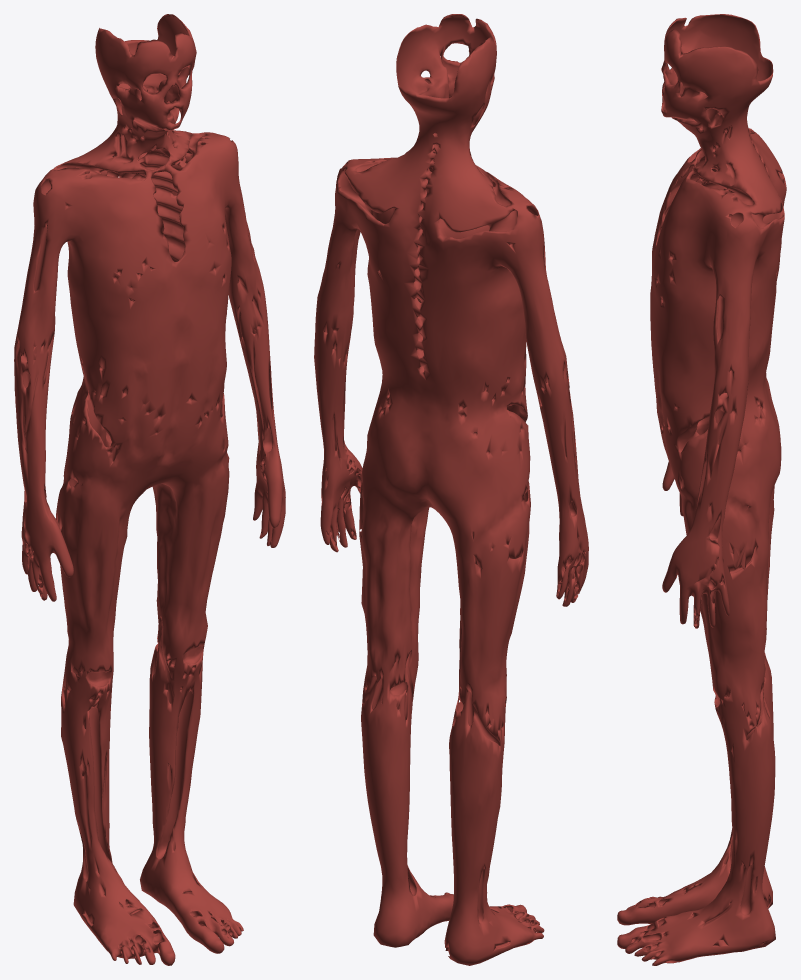
File: pediatric_adolescent_female.muscular.LOD0.glb
3 renders of one model, left to right at view 1: azimuth 30°, elevation 25°; view 2: azimuth 150°, elevation 25°; view 3: azimuth 270°, elevation 25°, orthographic.
Visible parts, largest first — view 1: PEDIATRIC.ADOLESCENT.FEMALE.MUSCULAR.MUSCLE; view 2: PEDIATRIC.ADOLESCENT.FEMALE.MUSCULAR.MUSCLE; view 3: PEDIATRIC.ADOLESCENT.FEMALE.MUSCULAR.MUSCLE.
Part boxes in pixels (<box>): PEDIATRIC.ADOLESCENT.FEMALE.MUSCULAR.MUSCLE: <box>14,14,285,965</box>; PEDIATRIC.ADOLESCENT.FEMALE.MUSCULAR.MUSCLE: <box>314,14,588,965</box>; PEDIATRIC.ADOLESCENT.FEMALE.MUSCULAR.MUSCLE: <box>617,14,786,965</box>.
Bounding box in the file's own units: 0.4585 × 1.58 × 0.2657.
